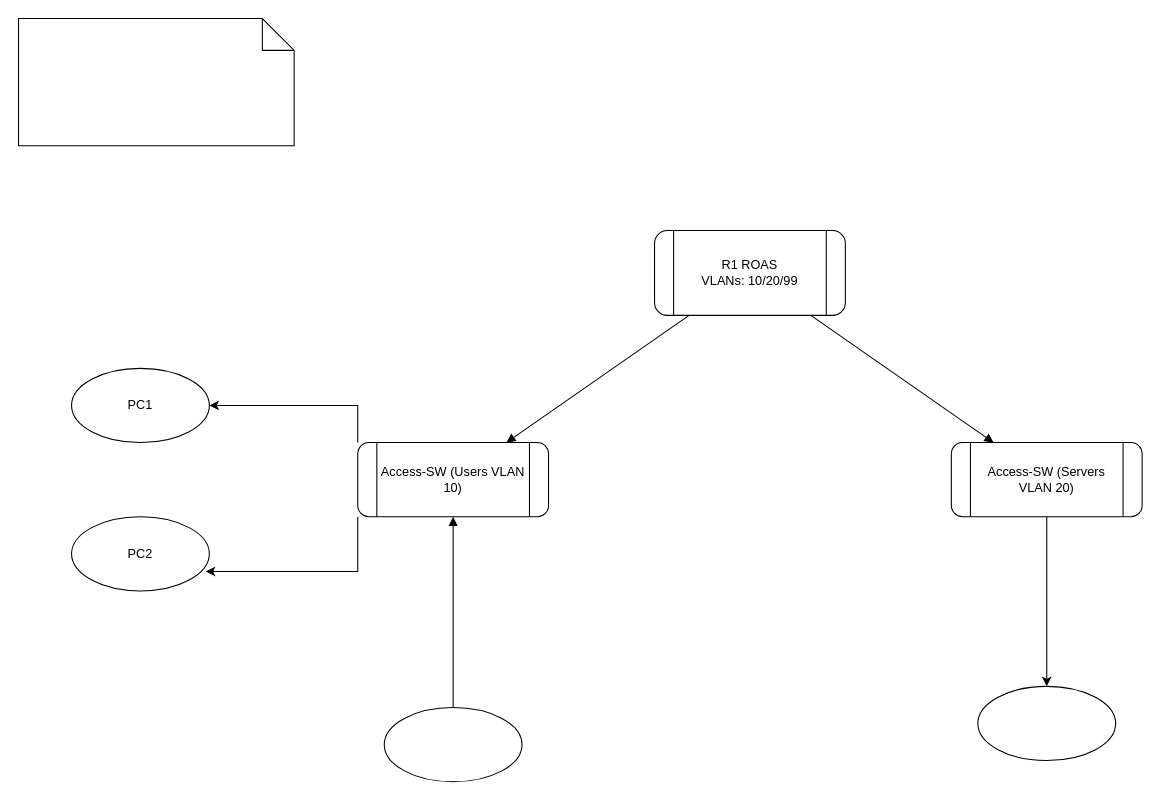
The diagram is 1161 pixels wide and 800 high, and some of its shapes have lost their labels. Here are the shapes that lost their labels. From the top down, the centre of each, then its label:
the point at 155,81: ACLs: Users→Servers only 80/443/1433 SNMP: v2c (RO) or v3 Syslog: test alert
the point at 1046,723: SRV
the point at 452,744: Monitoring Host (SNMP, Syslog)
